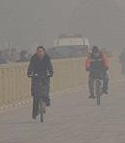person: (27, 45, 56, 122), (84, 45, 111, 106), (118, 49, 125, 74)
